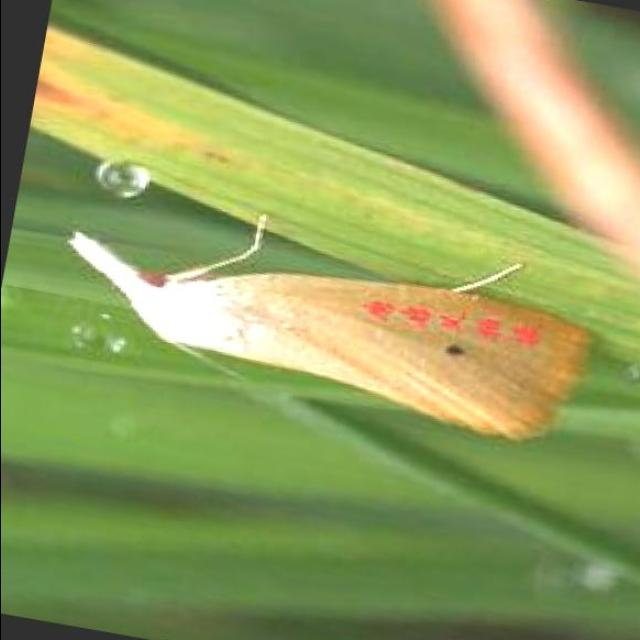stem borer: (68, 216, 588, 439), (68, 233, 587, 439)
